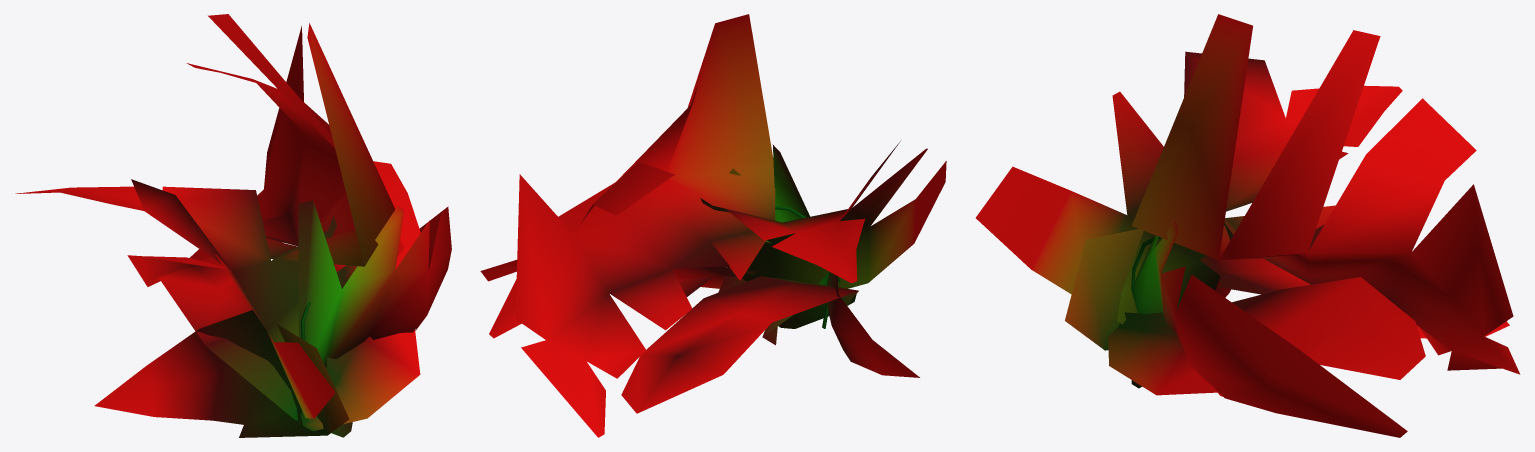
The model's file is Bracken Fern_LOD0_Var3_seEoW.fbx.
The picture shows the model from 3 angles, left to right: view 1: azimuth 30°, elevation 25°; view 2: azimuth 150°, elevation 25°; view 3: azimuth 270°, elevation 25°; orthographic projection. The views are drawn at different scales.
Parts seen in each view (by area): view 1: _3y8r_Var3_LOD0; view 2: _3y8r_Var3_LOD0; view 3: _3y8r_Var3_LOD0.
Boxes of the visible parts, x1,y1,x2,y2 form: _3y8r_Var3_LOD0: (15,14,451,437); _3y8r_Var3_LOD0: (480,14,946,437); _3y8r_Var3_LOD0: (976,14,1520,437).
Size of the model in its own units: 95.9 by 85.27 by 113.
